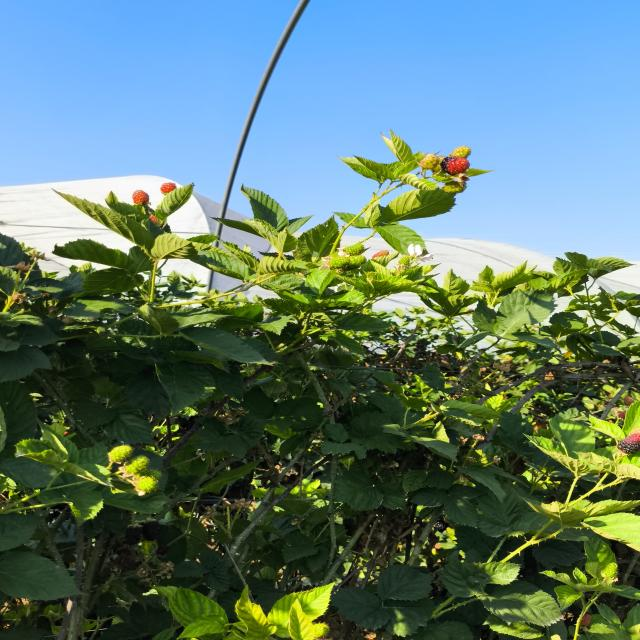flor: (406, 244, 434, 262)
marron: (443, 156, 469, 175), (617, 433, 640, 454)
naranja: (132, 190, 149, 205), (160, 182, 176, 194), (372, 250, 389, 258), (149, 215, 158, 223)
verde: (125, 455, 149, 474), (108, 445, 133, 463), (137, 476, 158, 494), (419, 154, 439, 170), (329, 255, 349, 269), (450, 146, 471, 158), (140, 468, 161, 480), (344, 243, 364, 255), (349, 255, 366, 268), (398, 256, 410, 266)
